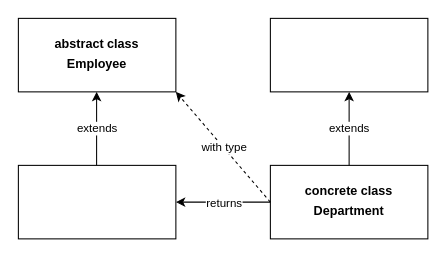
Some shapes in this 446 by 257 pixel diagram are drawn without their labels. Here are the shapes that lost their labels. From the top down, the centre of each, then its label:
(348,54): abstract class Department
(96,201): concrete class Employee
